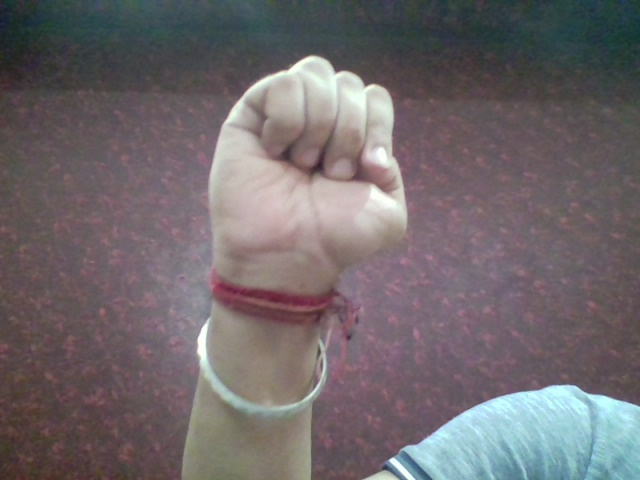m: (196, 45, 427, 285)
